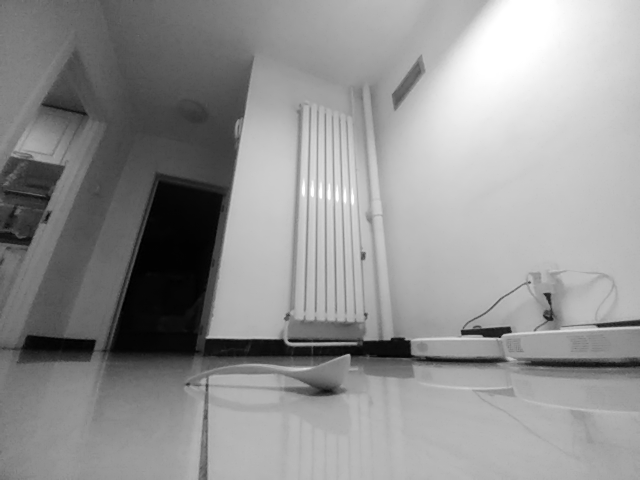others: (183, 353, 354, 397)
